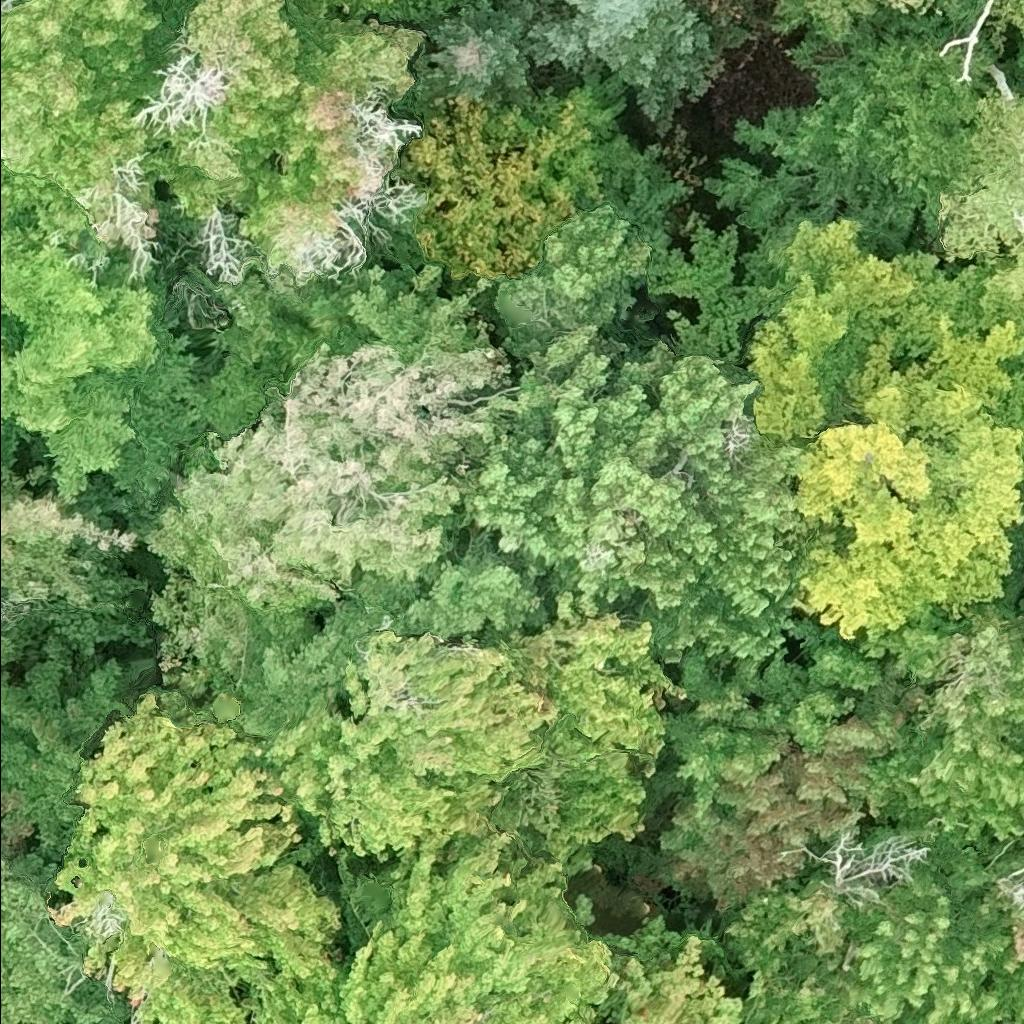crown: (145, 261, 517, 702), (458, 322, 832, 665), (748, 216, 1023, 656), (47, 694, 342, 1023), (656, 614, 940, 915), (260, 628, 561, 868), (300, 825, 618, 1023), (723, 822, 1023, 1023), (706, 29, 982, 242), (490, 592, 686, 878), (235, 10, 428, 262), (0, 223, 160, 506), (0, 0, 164, 264), (881, 600, 1023, 846), (154, 0, 304, 218), (597, 915, 875, 1023), (525, 0, 721, 134), (0, 833, 137, 1023), (0, 455, 141, 610), (238, 603, 386, 737), (941, 87, 1023, 304), (393, 0, 540, 117), (398, 561, 545, 643), (954, 885, 1023, 1023), (771, 0, 945, 44), (1000, 0, 1023, 31)
